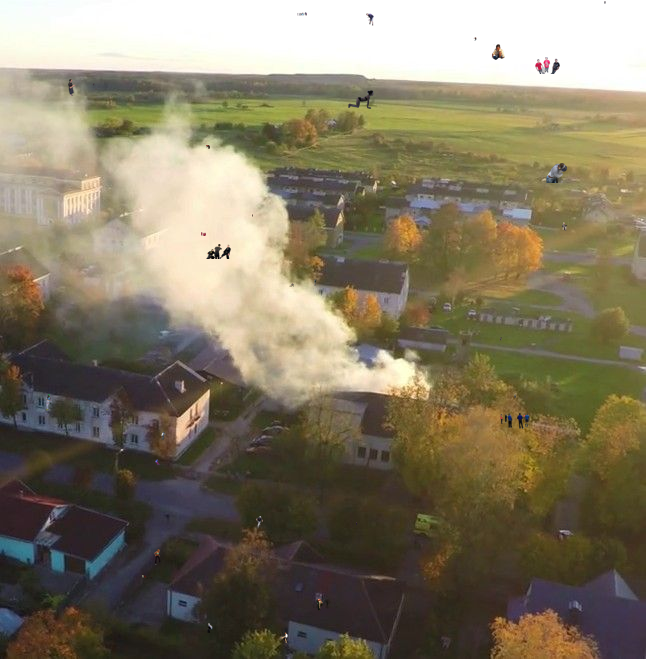Human: (546, 163, 571, 183), (348, 90, 374, 109), (68, 79, 97, 96), (500, 413, 530, 429), (535, 57, 560, 74), (206, 244, 231, 259), (316, 597, 338, 611), (491, 44, 505, 61), (45, 394, 52, 411), (154, 549, 161, 565), (366, 13, 374, 26), (256, 516, 263, 529), (281, 632, 288, 643), (207, 623, 213, 633), (142, 575, 154, 579), (161, 432, 167, 440), (562, 222, 567, 231), (297, 12, 307, 16), (469, 37, 478, 41), (155, 459, 160, 465), (314, 279, 317, 286), (289, 283, 294, 287), (201, 232, 206, 236), (206, 145, 210, 149), (499, 337, 502, 342), (514, 394, 516, 398), (604, 1, 606, 4), (566, 524, 568, 526), (356, 522, 357, 526), (404, 189, 405, 192), (252, 214, 253, 217)
